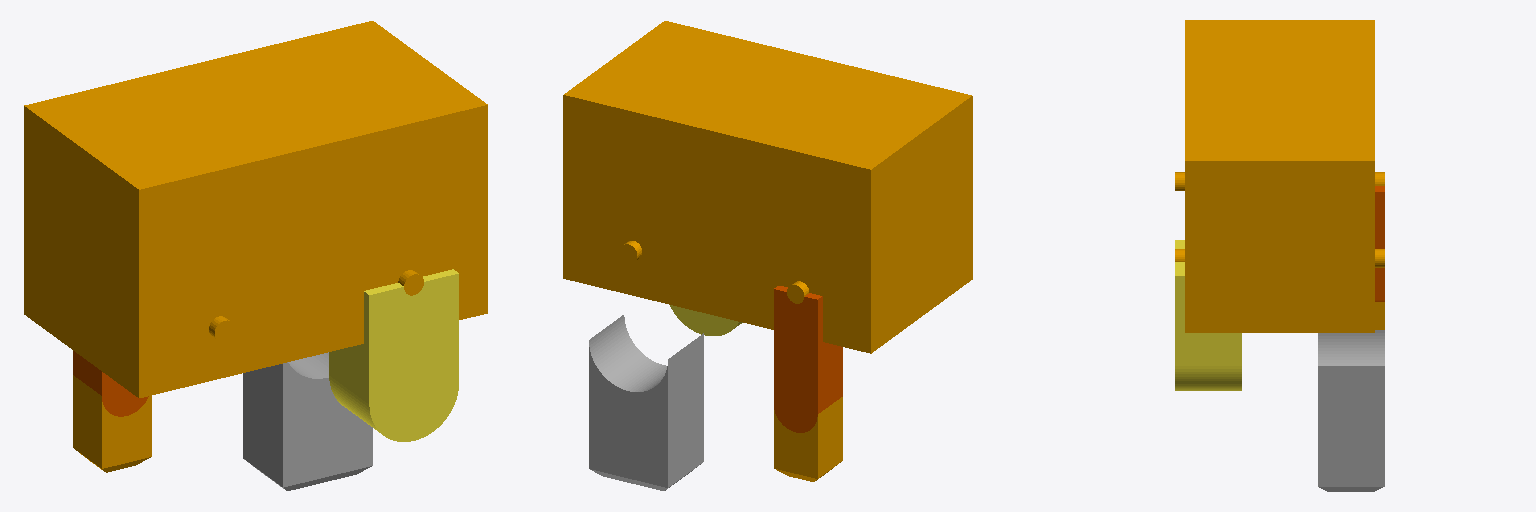
URDF robot description (frog):
<?xml version='1.0' encoding='utf-8'?>
<robot name="frog">
    <link name="base-link">
        <inertial>
            <origin xyz="-0.0026207604634829068 0.0 0.018351499677090002" rpy="0.0 0.0 0.0" />
            <mass value="0.10999864928459796" />
            <inertia ixx="7.340039646891687e-06" iyy="1.4893708283392455e-05" izz="1.4902103626545398e-05" ixy="-1.0318856880076055e-19" iyz="7.717249950189853e-17" ixz="-4.828087799349512e-20" />
        </inertial>
        <visual name="base-link_visual">
            <origin xyz="0.0 0.0 0.0" rpy="0.0 0.0 0.0" />
            <geometry>
                <mesh filename="meshes/base-link.stl" scale="0.001 0.001 0.001" />
            </geometry>
        </visual>
        <collision name="base-link_collision">
            <origin xyz="0.0 0.0 0.0" rpy="0.0 0.0 0.0" />
            <geometry>
                <mesh filename="meshes/base-link.stl" scale="0.001 0.001 0.001" />
            </geometry>
        </collision>
    </link>
    <link name="left-front-up">
        <inertial>
            <origin xyz="-4.634828121297119e-10 -0.007393890422509251 -0.0024999998509883914" rpy="0.0 -0.0 0.0" />
            <mass value="0.002776807258817609" />
            <inertia ixx="5.2761584057436437e-08" iyy="1.1482366475279717e-08" izz="5.2673920287642635e-08" ixy="0.0" iyz="-2.6469779601696886e-23" ixz="1.0587911840678754e-22" />
        </inertial>
        <visual name="left-front-up_visual">
            <origin xyz="0.012516524678779402 -0.025382981763435734 -0.015000000000000003" rpy="-1.5707963267948966 -0.0 0.0" />
            <geometry>
                <mesh filename="meshes/left-front-up.stl" scale="0.001 0.001 0.001" />
            </geometry>
        </visual>
        <collision name="left-front-up_collision">
            <origin xyz="0.012516524678779402 -0.025382981763435734 -0.015000000000000003" rpy="-1.5707963267948966 -0.0 0.0" />
            <geometry>
                <mesh filename="meshes/left-front-up.stl" scale="0.001 0.001 0.001" />
            </geometry>
        </collision>
    </link>
    <link name="left-front-down">
        <inertial>
            <origin xyz="-8.964127323762838e-08 -0.00479174435203383 1.4901161082825354e-10" rpy="0.0 -0.0 0.0" />
            <mass value="0.0011165908230702513" />
            <inertia ixx="5.511645420592039e-09" iyy="4.695817732338336e-09" izz="5.712175837701653e-09" ixy="4.586299848312799e-13" iyz="0.0" ixz="-1.3234889800848443e-23" />
        </inertial>
        <visual name="left-front-down_visual">
            <origin xyz="0.012516524678779402 -0.00688298176343573 -0.012500000000000004" rpy="-1.5707963267948966 -0.0 0.0" />
            <geometry>
                <mesh filename="meshes/left-front-down.stl" scale="0.001 0.001 0.001" />
            </geometry>
        </visual>
        <collision name="left-front-down_collision">
            <origin xyz="0.012516524678779402 -0.00688298176343573 -0.012500000000000004" rpy="-1.5707963267948966 -0.0 0.0" />
            <geometry>
                <mesh filename="meshes/left-front-down.stl" scale="0.001 0.001 0.001" />
            </geometry>
        </collision>
    </link>
    <link name="left-back-up">
        <inertial>
            <origin xyz="2.6392760385068882e-05 -0.007090730495237867 -0.0034999998509883867" rpy="0.0 -0.0 0.0" />
            <mass value="0.006848741329917298" />
            <inertia ixx="1.4111432227979106e-07" iyy="7.184207980953931e-08" izz="1.570250145616731e-07" ixy="-1.6023981133610973e-11" iyz="-3.705769144237564e-22" ixz="-1.0587911840678754e-22" />
        </inertial>
        <visual name="left-back-up_visual">
            <origin xyz="-0.008000000575241526 -0.01799999650728049 -0.017" rpy="-1.5707963267948966 -0.0 0.0" />
            <geometry>
                <mesh filename="meshes/left-back-up.stl" scale="0.001 0.001 0.001" />
            </geometry>
        </visual>
        <collision name="left-back-up_collision">
            <origin xyz="-0.008000000575241526 -0.01799999650728049 -0.017" rpy="-1.5707963267948966 -0.0 0.0" />
            <geometry>
                <mesh filename="meshes/left-back-up.stl" scale="0.001 0.001 0.001" />
            </geometry>
        </collision>
    </link>
    <link name="left-back-down">
        <inertial>
            <origin xyz="3.2254111126395202e-09 -0.009110490799856756 1.490116086078075e-10" rpy="0.0 -0.0 0.0" />
            <mass value="0.005555232688979731" />
            <inertia ixx="8.400236336369896e-08" iyy="6.228937278740522e-08" izz="1.0165161030221345e-07" ixy="2.6469779601696886e-23" iyz="1.5881867761018131e-22" ixz="0.0" />
        </inertial>
        <visual name="left-back-down_visual">
            <origin xyz="-0.008026040575241526 -0.0035509965072804883 -0.013500000000000002" rpy="-1.5707963267948966 -0.0 0.0" />
            <geometry>
                <mesh filename="meshes/left-back-down.stl" scale="0.001 0.001 0.001" />
            </geometry>
        </visual>
        <collision name="left-back-down_collision">
            <origin xyz="-0.008026040575241526 -0.0035509965072804883 -0.013500000000000002" rpy="-1.5707963267948966 -0.0 0.0" />
            <geometry>
                <mesh filename="meshes/left-back-down.stl" scale="0.001 0.001 0.001" />
            </geometry>
        </collision>
    </link>
    <link name="right-front-up">
        <inertial>
            <origin xyz="-4.6348281435015793e-10 0.007393890571520876 -0.002499999850988388" rpy="0.0 -0.0 0.0" />
            <mass value="0.002776807258817609" />
            <inertia ixx="5.2761584057436384e-08" iyy="1.1482366475279717e-08" izz="5.2673920287642635e-08" ixy="0.0" iyz="-2.6469779601696886e-23" ixz="-5.293955920339377e-23" />
        </inertial>
        <visual name="right-front-up_visual">
            <origin xyz="0.0125165246787794 0.02538298191244736 0.010000000298023224" rpy="1.5707963267948966 -0.0 0.0" />
            <geometry>
                <mesh filename="meshes/right-front-up.stl" scale="0.001 0.001 0.001" />
            </geometry>
        </visual>
        <collision name="right-front-up_collision">
            <origin xyz="0.0125165246787794 0.02538298191244736 0.010000000298023224" rpy="1.5707963267948966 -0.0 0.0" />
            <geometry>
                <mesh filename="meshes/right-front-up.stl" scale="0.001 0.001 0.001" />
            </geometry>
        </collision>
    </link>
    <link name="right-back-up">
        <inertial>
            <origin xyz="2.6392760385068882e-05 0.0070907306442494844 -0.003499999850988389" rpy="0.0 -0.0 0.0" />
            <mass value="0.006848741329917298" />
            <inertia ixx="1.4111432227979095e-07" iyy="7.184207980953931e-08" izz="1.5702501456167288e-07" ixy="1.6023981133505094e-11" iyz="-3.705769144237564e-22" ixz="0.0" />
        </inertial>
        <visual name="right-back-up_visual">
            <origin xyz="-0.008000000575241526 0.017999996656292108 0.010000000298023224" rpy="1.5707963267948966 -0.0 0.0" />
            <geometry>
                <mesh filename="meshes/right-back-up.stl" scale="0.001 0.001 0.001" />
            </geometry>
        </visual>
        <collision name="right-back-up_collision">
            <origin xyz="-0.008000000575241526 0.017999996656292108 0.010000000298023224" rpy="1.5707963267948966 -0.0 0.0" />
            <geometry>
                <mesh filename="meshes/right-back-up.stl" scale="0.001 0.001 0.001" />
            </geometry>
        </collision>
    </link>
    <link name="right-back-down">
        <inertial>
            <origin xyz="3.2254111126395202e-09 -0.009110490948868373 -0.003500000149011614" rpy="0.0 -0.0 0.0" />
            <mass value="0.005555232688979731" />
            <inertia ixx="8.400236336369885e-08" iyy="6.228937278740522e-08" izz="1.0165161030221345e-07" ixy="2.6469779601696886e-23" iyz="2.117582368135751e-22" ixz="0.0" />
        </inertial>
        <visual name="right-back-down_visual">
            <origin xyz="-0.008026040575241526 -0.003550996656292107 -0.017000000298023225" rpy="-1.5707963267948966 -0.0 0.0" />
            <geometry>
                <mesh filename="meshes/right-back-down.stl" scale="0.001 0.001 0.001" />
            </geometry>
        </visual>
        <collision name="right-back-down_collision">
            <origin xyz="-0.008026040575241526 -0.003550996656292107 -0.017000000298023225" rpy="-1.5707963267948966 -0.0 0.0" />
            <geometry>
                <mesh filename="meshes/right-back-down.stl" scale="0.001 0.001 0.001" />
            </geometry>
        </collision>
    </link>
    <link name="right-front-down">
        <inertial>
            <origin xyz="-8.964127323984883e-08 -0.004791744501045455 -0.002500000149011611" rpy="0.0 -0.0 0.0" />
            <mass value="0.0011165908230702513" />
            <inertia ixx="5.511645420592039e-09" iyy="4.695817732338389e-09" izz="5.71217583770168e-09" ixy="4.586299848577497e-13" iyz="0.0" ixz="-3.970466940254533e-23" />
        </inertial>
        <visual name="right-front-down_visual">
            <origin xyz="0.0125165246787794 -0.006882981912447356 -0.015000000298023224" rpy="-1.5707963267948966 -0.0 0.0" />
            <geometry>
                <mesh filename="meshes/right-front-down.stl" scale="0.001 0.001 0.001" />
            </geometry>
        </visual>
        <collision name="right-front-down_collision">
            <origin xyz="0.0125165246787794 -0.006882981912447356 -0.015000000298023224" rpy="-1.5707963267948966 -0.0 0.0" />
            <geometry>
                <mesh filename="meshes/right-front-down.stl" scale="0.001 0.001 0.001" />
            </geometry>
        </collision>
    </link>
    <joint name="base-link_left-front-up" type="revolute">
        <origin xyz="-0.01212076 -0.011000000000000001 0.013355980000000002" rpy="1.5707963267948966 -0.0 0.0" />
        <parent link="base-link" />
        <child link="left-front-up" />
        <axis xyz="0.0 0.0 1.0" />
        <limit lower="-1.570796" upper="1.570796" effort="1000000" velocity="1000000" />
    </joint>
    <joint name="left-front-up_left-front-down" type="revolute">
        <origin xyz="0.0 -0.0125 -0.0025000000000000014" rpy="0.0 -0.0 0.0" />
        <parent link="left-front-up" />
        <child link="left-front-down" />
        <axis xyz="0.0 0.0 1.0" />
        <limit lower="-1.570796" upper="1.570796" effort="1000000" velocity="1000000" />
    </joint>
    <joint name="base-link_left-back-up" type="revolute">
        <origin xyz="0.00687924 -0.011000000000000001 0.013355980000000002" rpy="1.5707963267948966 -0.0 0.0" />
        <parent link="base-link" />
        <child link="left-back-up" />
        <axis xyz="0.0 0.0 1.0" />
        <limit lower="-1.570796" upper="1.570796" effort="1000000" velocity="1000000" />
    </joint>
    <joint name="left-back-up_left-back-down" type="revolute">
        <origin xyz="2.6040000000000506e-05 -0.010449000000000002 -0.003500000000000001" rpy="0.0 -0.0 0.0" />
        <parent link="left-back-up" />
        <child link="left-back-down" />
        <axis xyz="0.0 0.0 1.0" />
        <limit lower="-1.570796" upper="1.570796" effort="1000000" velocity="1000000" />
    </joint>
    <joint name="base-link_right-back-up" type="revolute">
        <origin xyz="0.00687924 0.011000000000000001 0.013355980000000002" rpy="-1.5707963267948966 -0.0 0.0" />
        <parent link="base-link" />
        <child link="right-back-up" />
        <axis xyz="0.0 0.0 1.0" />
        <limit lower="-1.570796" upper="1.570796" effort="1000000" velocity="1000000" />
    </joint>
    <joint name="right-back-up_right-back-down" type="revolute">
        <origin xyz="2.6040000000000506e-05 0.010449000000000002 -0.007000000000000001" rpy="3.141592653589793 -0.0 0.0" />
        <parent link="right-back-up" />
        <child link="right-back-down" />
        <axis xyz="0.0 0.0 1.0" />
        <limit lower="-1.570796" upper="1.570796" effort="1000000" velocity="1000000" />
    </joint>
    <joint name="base-link_right-front-up" type="revolute">
        <origin xyz="-0.01212076 0.011000000000000001 0.013355980000000002" rpy="-1.5707963267948966 -0.0 0.0" />
        <parent link="base-link" />
        <child link="right-front-up" />
        <axis xyz="0.0 0.0 1.0" />
        <limit lower="-1.570796" upper="1.570796" effort="1000000" velocity="1000000" />
    </joint>
    <joint name="right-front-up_right-front-down" type="revolute">
        <origin xyz="0.0 0.0125 -0.005000000000000001" rpy="3.141592653589793 -0.0 0.0" />
        <parent link="right-front-up" />
        <child link="right-front-down" />
        <axis xyz="0.0 0.0 1.0" />
        <limit lower="-1.570796" upper="1.570796" effort="1000000" velocity="1000000" />
    </joint>
</robot>

--- Render facts (derived) ---
The picture shows the robot from 3 angles, left to right: view 1: azimuth 30°, elevation 25°; view 2: azimuth 150°, elevation 25°; view 3: azimuth 270°, elevation 25°; orthographic projection.
Model frog with 9 links and 8 joints (8 revolute), rooted at base-link, posed every joint at zero.
Visible links, largest first — view 1: base-link, left-back-up, right-back-down, right-front-down, right-front-up; view 2: base-link, right-back-down, right-front-up, right-front-down, left-back-up; view 3: base-link, right-back-down, left-back-up, right-front-up.
Boxes of the visible links, x1=… form: base-link: x1=24, y1=21, x2=487, y2=397; left-back-up: x1=329, y1=269, x2=458, y2=441; right-back-down: x1=243, y1=352, x2=372, y2=490; right-front-down: x1=73, y1=375, x2=151, y2=472; right-front-up: x1=73, y1=351, x2=148, y2=416; base-link: x1=563, y1=21, x2=972, y2=353; right-back-down: x1=589, y1=315, x2=703, y2=490; right-front-up: x1=774, y1=286, x2=842, y2=432; right-front-down: x1=774, y1=397, x2=842, y2=481; left-back-up: x1=670, y1=305, x2=742, y2=335; base-link: x1=1175, y1=20, x2=1384, y2=332; right-back-down: x1=1318, y1=330, x2=1384, y2=491; left-back-up: x1=1175, y1=240, x2=1241, y2=390; right-front-up: x1=1375, y1=186, x2=1384, y2=301.
Size in the robot's own frame: 0.035 by 0.022 by 0.0404 metres.
5 mesh visuals loaded from 9 distinct referenced files (5 binary STL); not drawn: 4 (reference not matched to a file when rendering).
